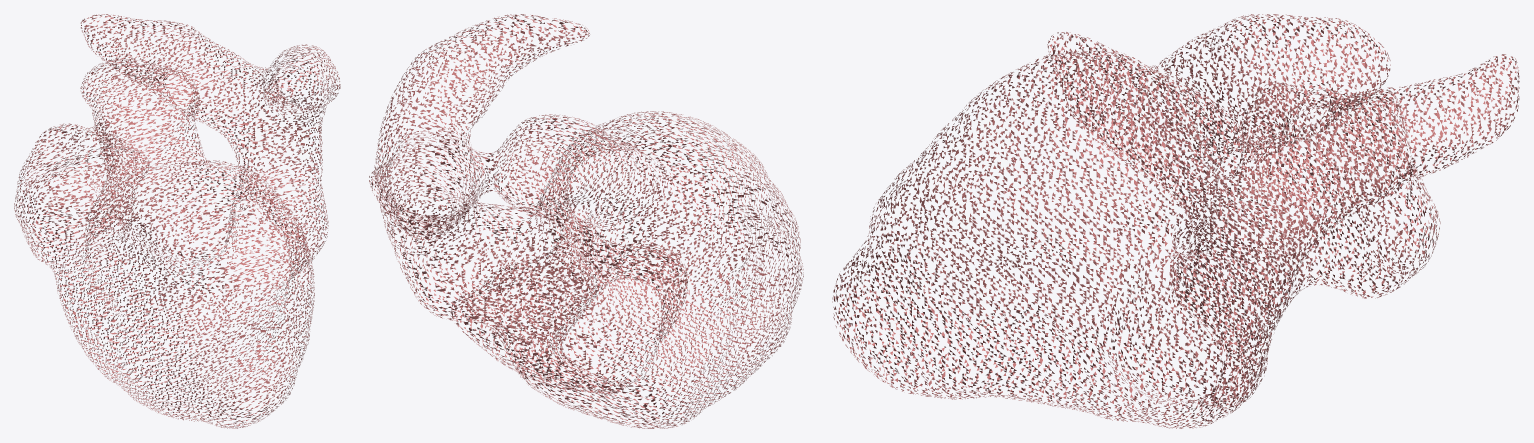
Rendered from heart.glb.
The picture shows the model from 3 angles, left to right: view 1: azimuth 30°, elevation 25°; view 2: azimuth 150°, elevation 25°; view 3: azimuth 270°, elevation 25°; orthographic projection. The views are drawn at different scales.
Bounding box in the file's own units: 112 × 118 × 164.
